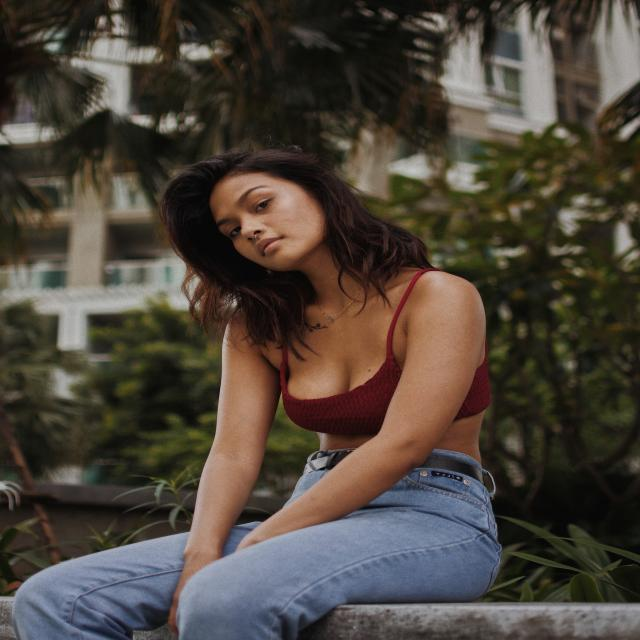adult: (0, 148, 502, 640)
